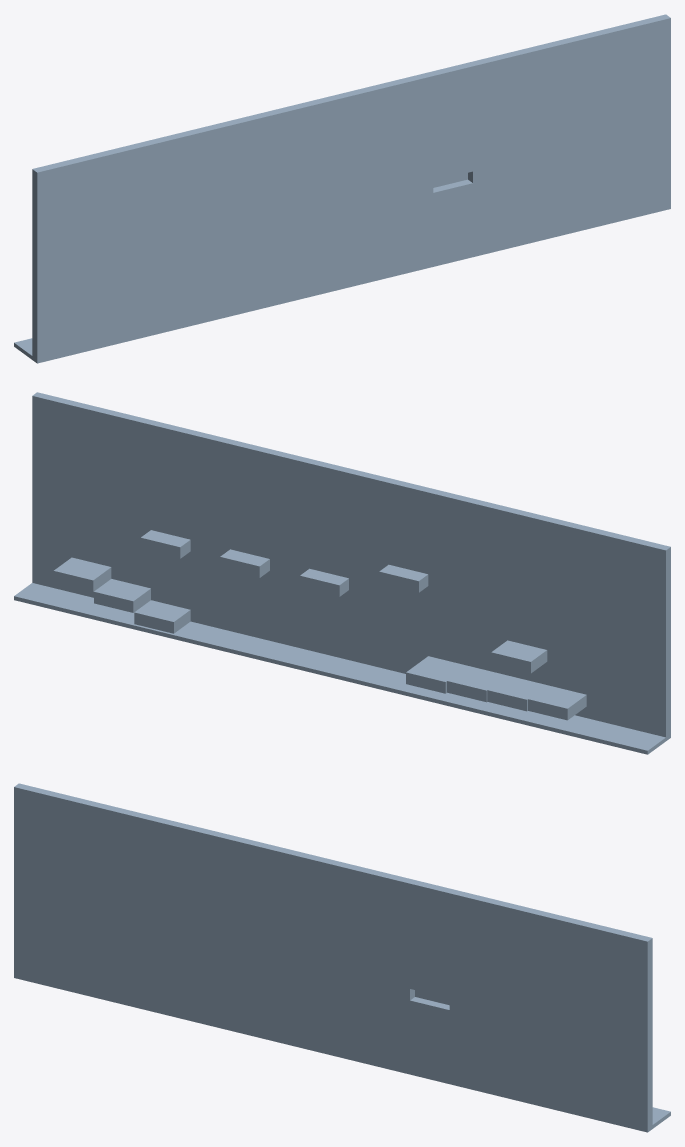
Rendered from environment_sub.fbx.
3 renders of one model, top to bottom at view 1: azimuth 30°, elevation 25°; view 2: azimuth 150°, elevation 25°; view 3: azimuth 330°, elevation 25°, orthographic.
Visible parts, largest first — view 1: Cube.004; view 2: Cube.004; view 3: Cube.004.
Boxes of the visible parts, x1,y1,x2,y2 form: Cube.004: (14,14,670,363); Cube.004: (14,392,670,754); Cube.004: (14,783,670,1132).
Bounding box in the file's own units: 4015 × 1156 × 299.
